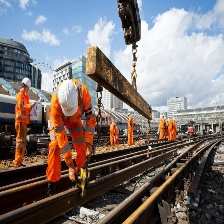helmet: (58, 79, 79, 117), (21, 74, 31, 90), (127, 111, 131, 117)
person: (46, 79, 96, 195), (14, 72, 34, 165), (125, 109, 136, 150), (157, 111, 167, 145), (109, 120, 117, 147)
vest: (15, 93, 31, 121), (128, 117, 134, 128), (110, 123, 115, 133)
